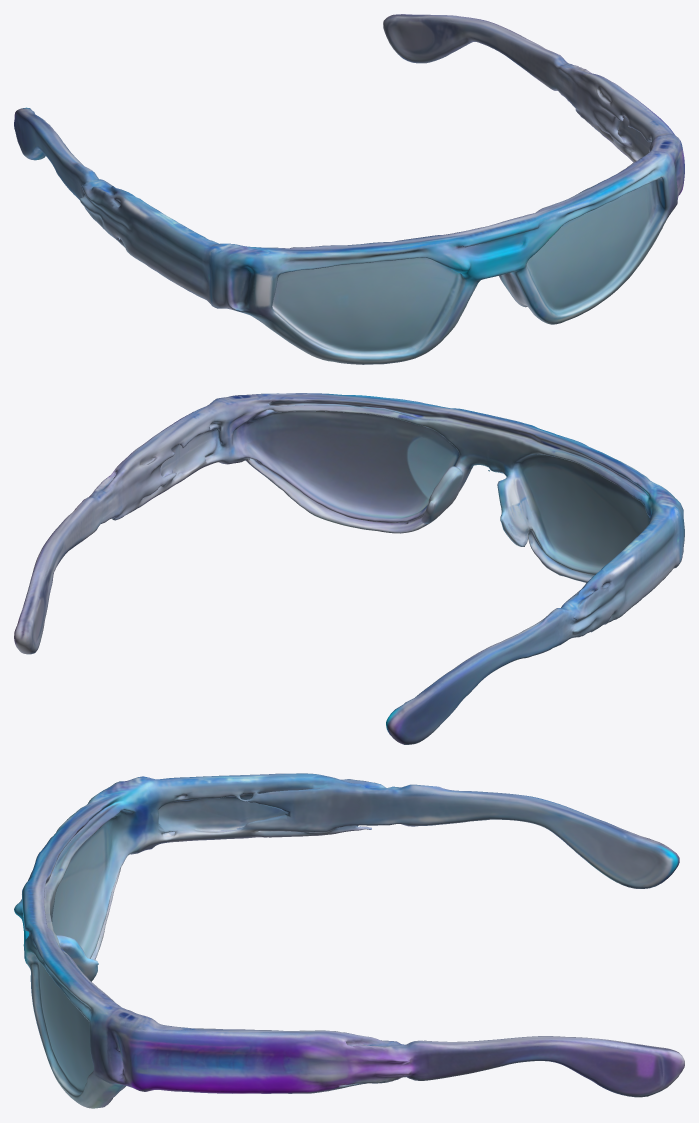
The model's file is shadow_glasses_rot.glb.
3 views of the same model, one above another, from view 1: azimuth 30°, elevation 25°; view 2: azimuth 150°, elevation 25°; view 3: azimuth 270°, elevation 25° (orthographic). The views are drawn at different scales.
Parts seen in each view (by area): view 1: Mesh_0; view 2: Mesh_0; view 3: Mesh_0.
Part boxes in pixels (x1=…): Mesh_0: x1=14, y1=14, x2=684, y2=364; Mesh_0: x1=14, y1=393, x2=684, y2=744; Mesh_0: x1=14, y1=773, x2=684, y2=1108.
Size of the model in its own units: 1.89 by 0.4509 by 1.99.
Materials: 1 (1 with a texture image).
